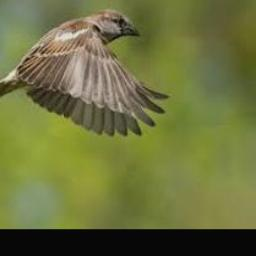Sparrow: (0, 9, 169, 135)
